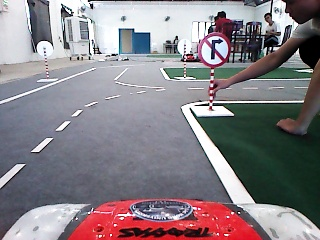ban: (197, 31, 230, 69)
